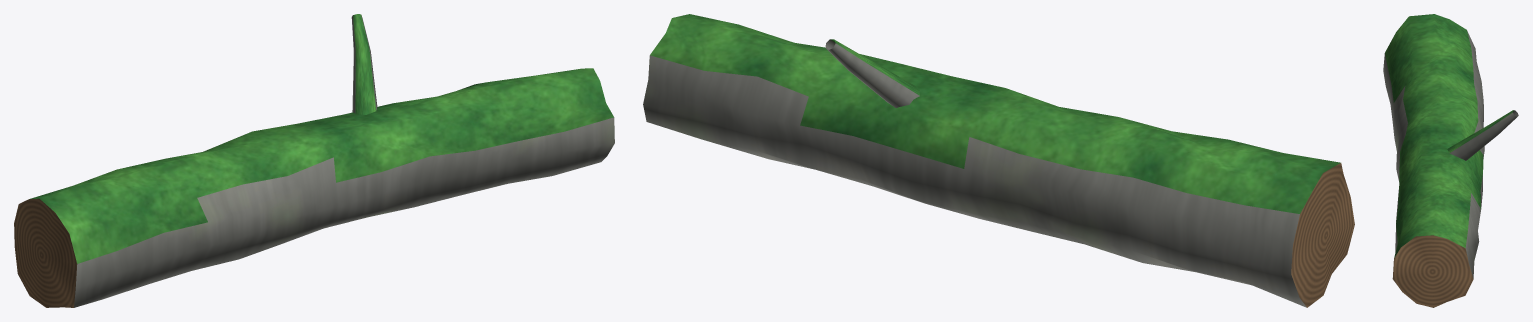
Rendered from tronco_caduto.glb.
The picture shows the model from 3 angles, left to right: view 1: azimuth 30°, elevation 25°; view 2: azimuth 150°, elevation 25°; view 3: azimuth 270°, elevation 25°; orthographic projection. The views are drawn at different scales.
Visible parts, largest first — view 1: tronco; view 2: tronco; view 3: tronco.
Boxes of the visible parts, x1,y1,x2,y2 form: tronco: (14,14,614,307); tronco: (643,14,1354,307); tronco: (1383,14,1518,307).
Bounding box in the file's own units: 3.65 × 1.06 × 0.9524.
3 materials, 3 textured.
